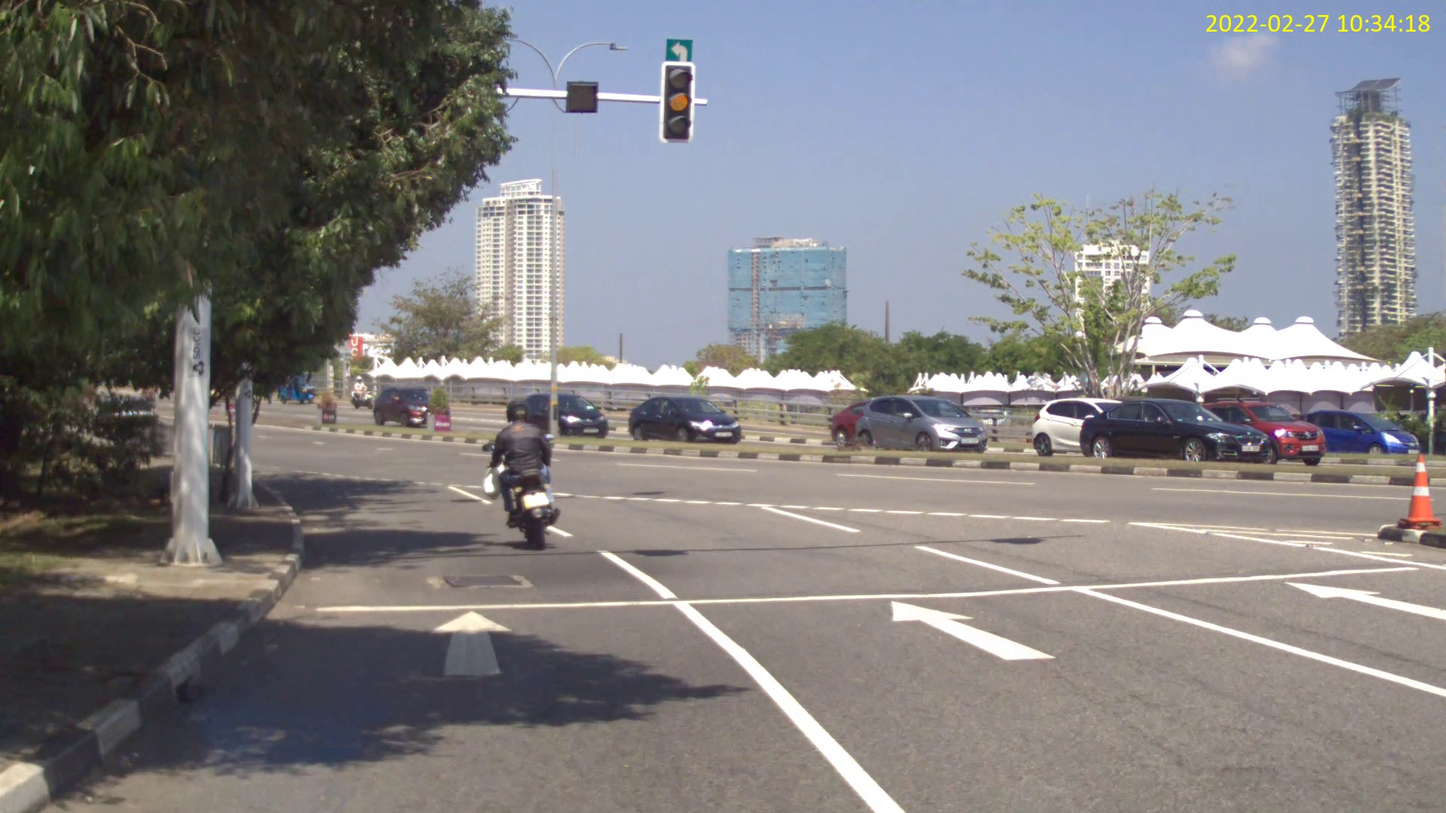Empty-count-down: (566, 81, 598, 114)
Yellow: (658, 61, 696, 144)
